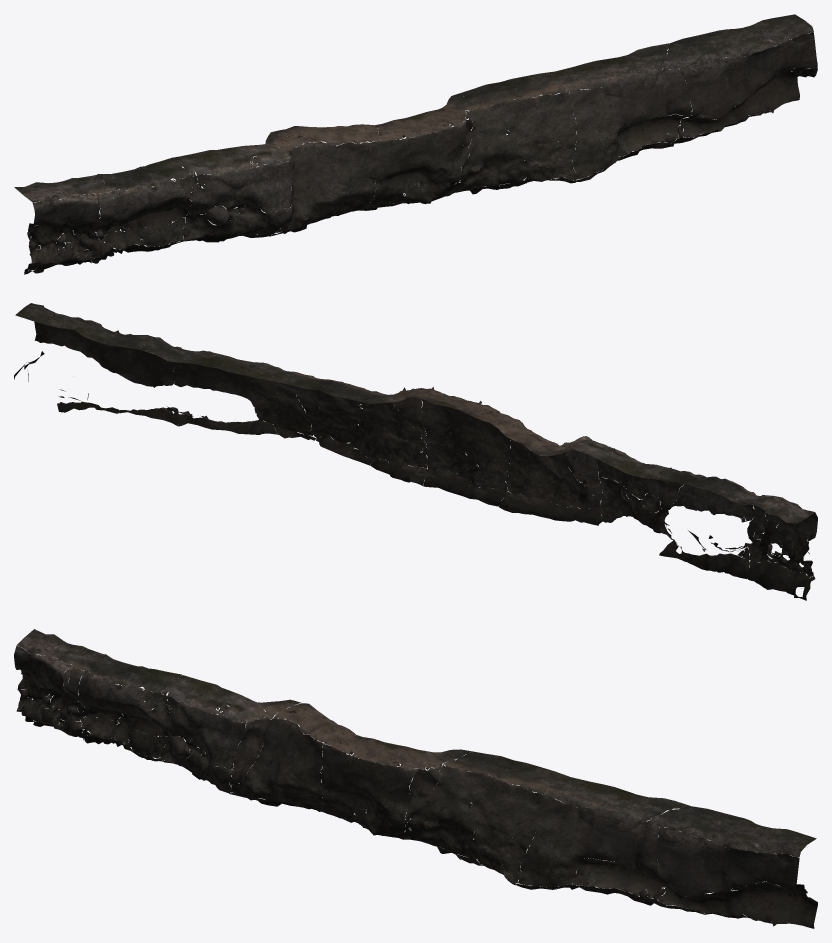
File: kf_cliff_a_dark.glb
3 views of the same model, one above another, from view 1: azimuth 30°, elevation 25°; view 2: azimuth 150°, elevation 25°; view 3: azimuth 330°, elevation 25° (orthographic). The views are drawn at different scales.
Parts seen in each view (by area): view 1: coastal_cliff_01; view 2: coastal_cliff_01; view 3: coastal_cliff_01.
Part boxes in pixels (x1,y1,x2,y2): coastal_cliff_01: [14, 14, 817, 274]; coastal_cliff_01: [14, 303, 817, 600]; coastal_cliff_01: [14, 629, 817, 928].
Size of what is drawn, in the model's own units: 91.89 by 10.27 by 10.96.
Materials: 1 (1 with a texture image).
